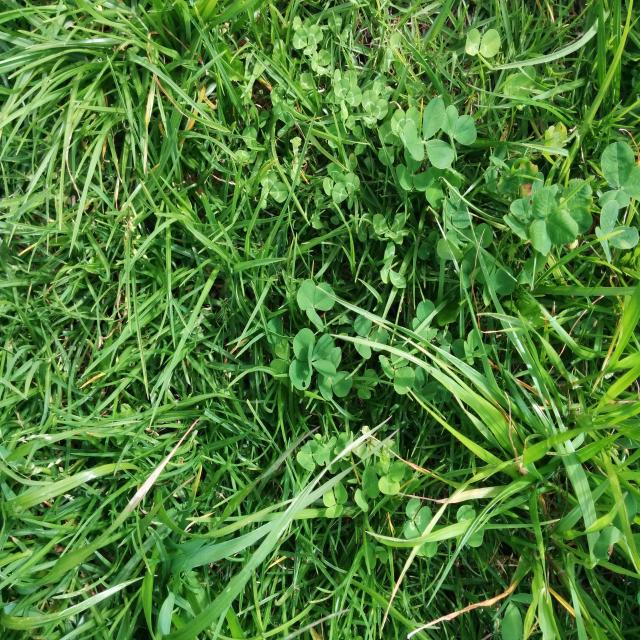Four Leaf Clover: (289, 328, 336, 390)
